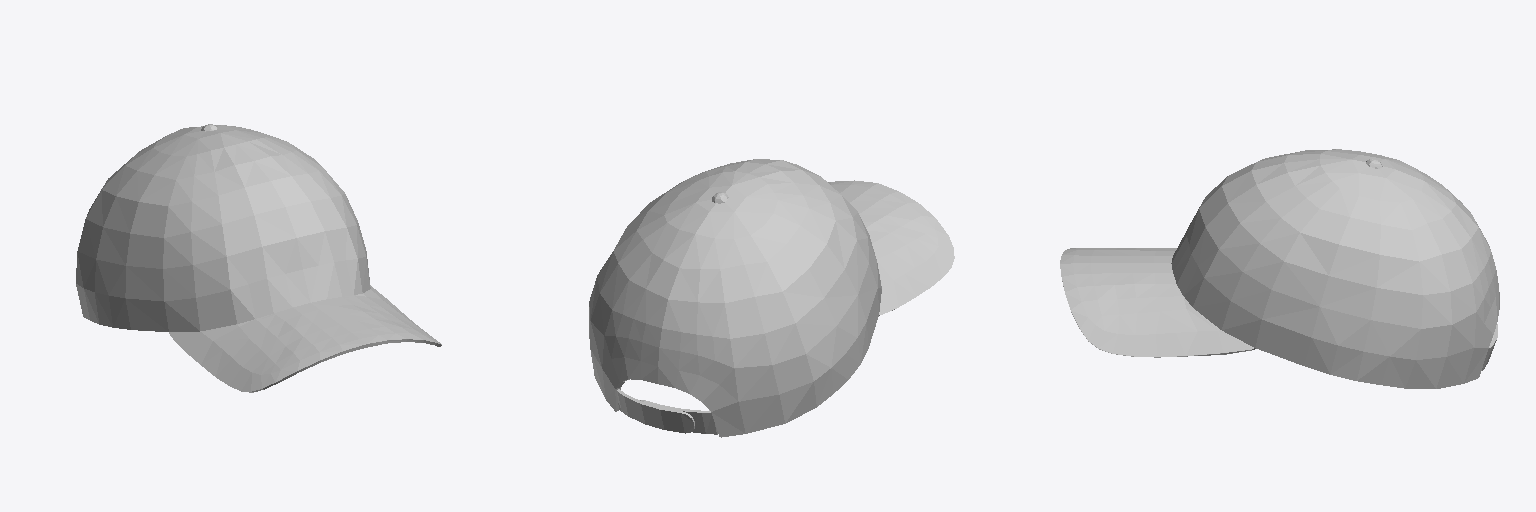
The model's file is BaseballHat.obj.
3 renders of one model, left to right at view 1: azimuth 30°, elevation 25°; view 2: azimuth 150°, elevation 25°; view 3: azimuth 270°, elevation 25°, orthographic.
Size of the model in its own units: 16.11 by 12.49 by 25.69.